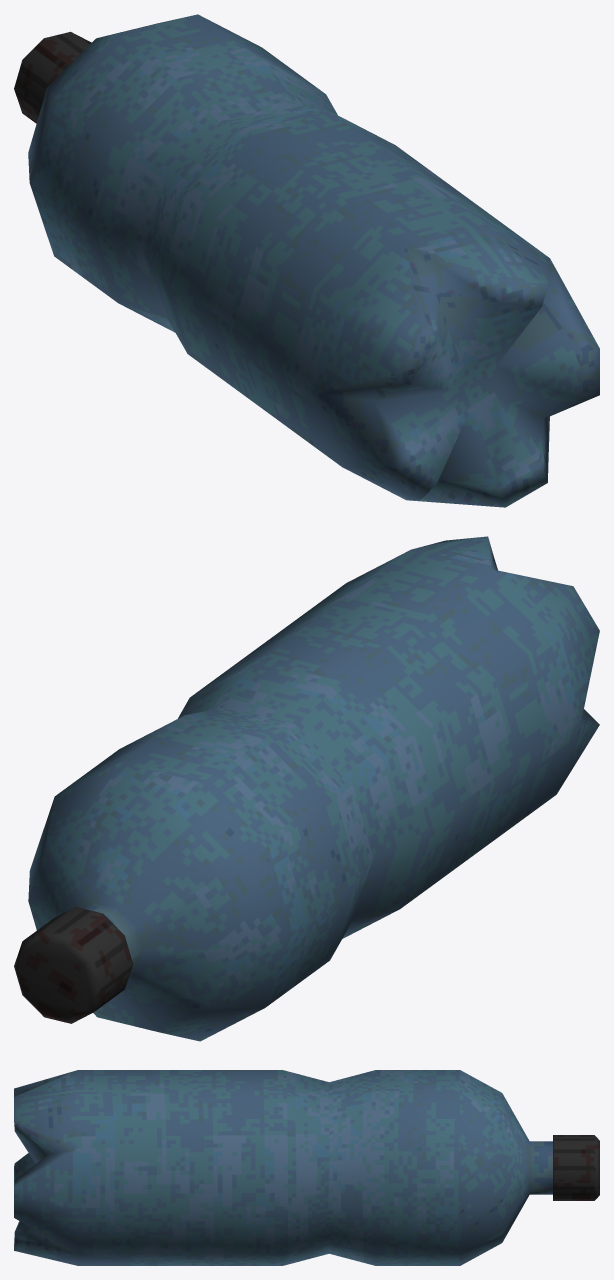
Rendered from WaterBottle.fbx.
3 renders of one model, top to bottom at view 1: azimuth 30°, elevation 25°; view 2: azimuth 150°, elevation 25°; view 3: azimuth 270°, elevation 25°, orthographic. The views are drawn at different scales.
Parts seen in each view (by area): view 1: WaterBottle; view 2: WaterBottle; view 3: WaterBottle.
Boxes of the visible parts, x1,y1,x2,y2 form: WaterBottle: (14, 14, 599, 507); WaterBottle: (14, 536, 599, 1041); WaterBottle: (14, 1070, 599, 1265).
Size of the model in its own units: 0.0842 by 0.0801 by 0.25.
